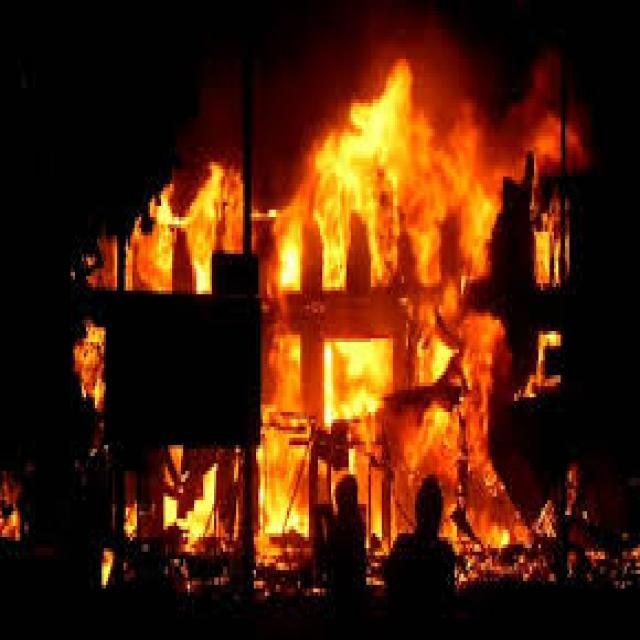Fire: (276, 305, 546, 477), (276, 218, 532, 352), (321, 60, 452, 259), (147, 194, 245, 296)
Smoke: (424, 29, 632, 143), (205, 58, 326, 219)
